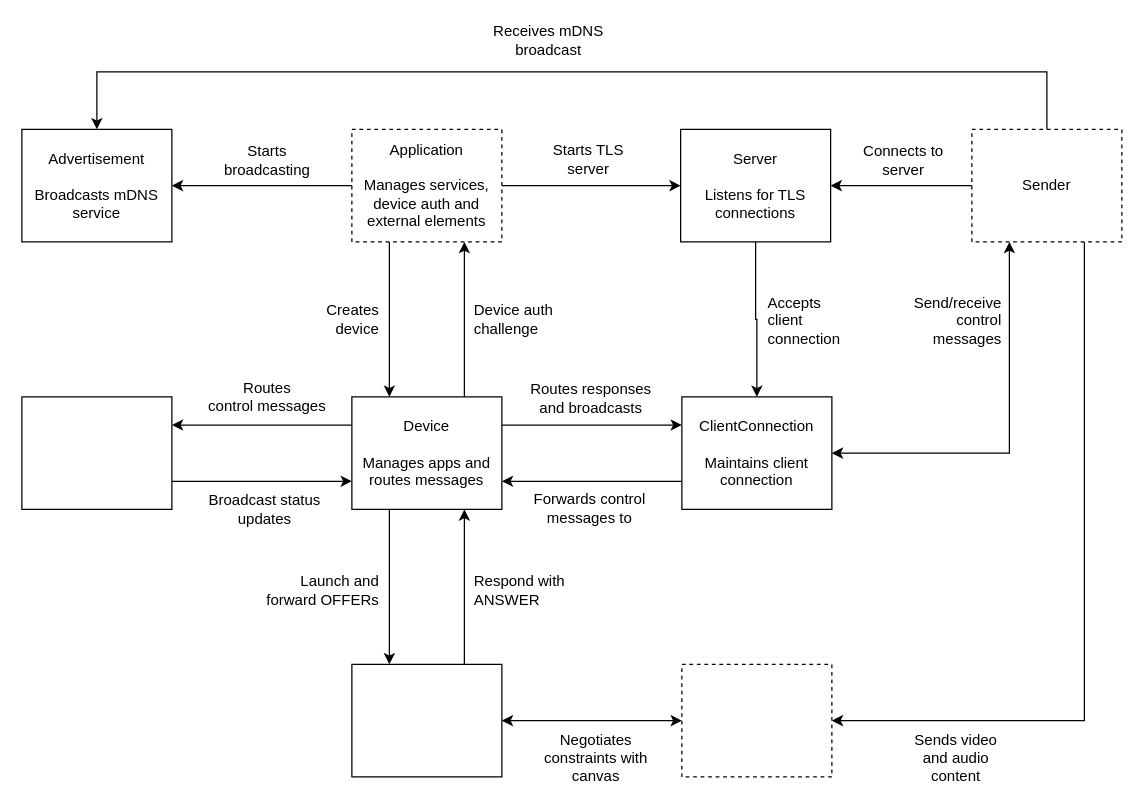
Some shapes in this 1144 by 810 pixel diagram are drawn without their labels. Here are the shapes that lost their labels. From the top down, the centre of each, then its label:
At pixel 96 452: "Receiver Handles control and CONNECT messages".
At pixel 426 720: "Session Handles OFFERs / manages canvas".
At pixel 756 720: "Canvas".
